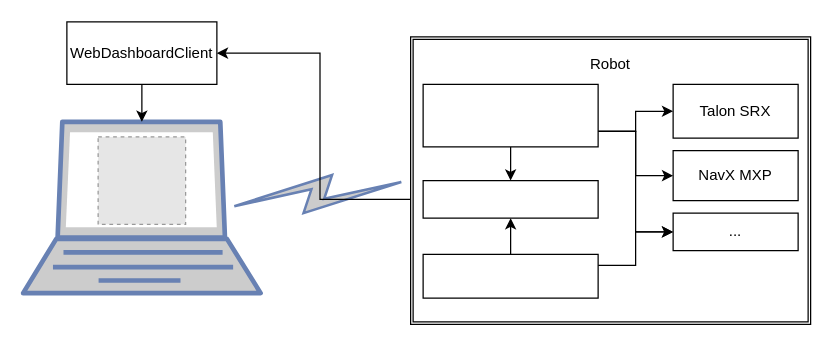
This 833x346 diagram has some shape labels left out. Grey dashed boxes stand in for pictures. The shapes that lost their labels are listed below. From the top down, each one's box as (x1, y1, x2, y2) in pixels, then its label:
(422, 83, 598, 147): Robot Code
(422, 179, 598, 218): WebDashboardBridge
(422, 253, 598, 298): Diagnostics
